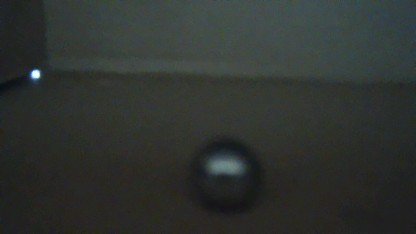ironball: (187, 139, 255, 197)
